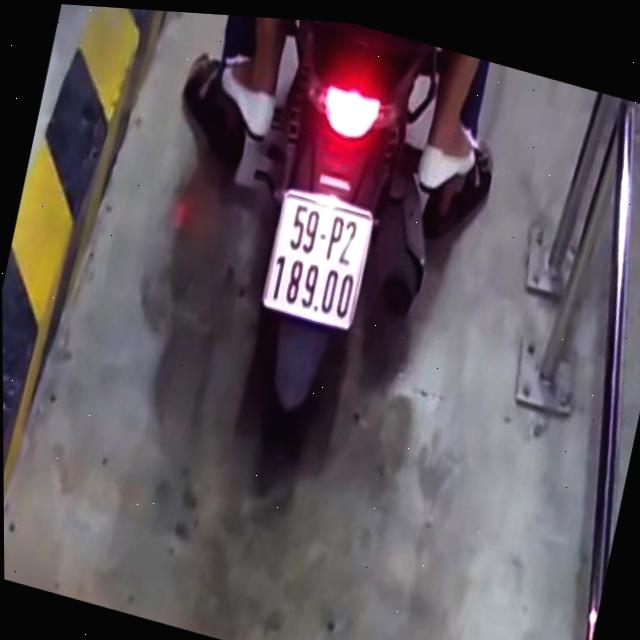motorcycle: (197, 14, 476, 476)
plate: (250, 172, 384, 341)
